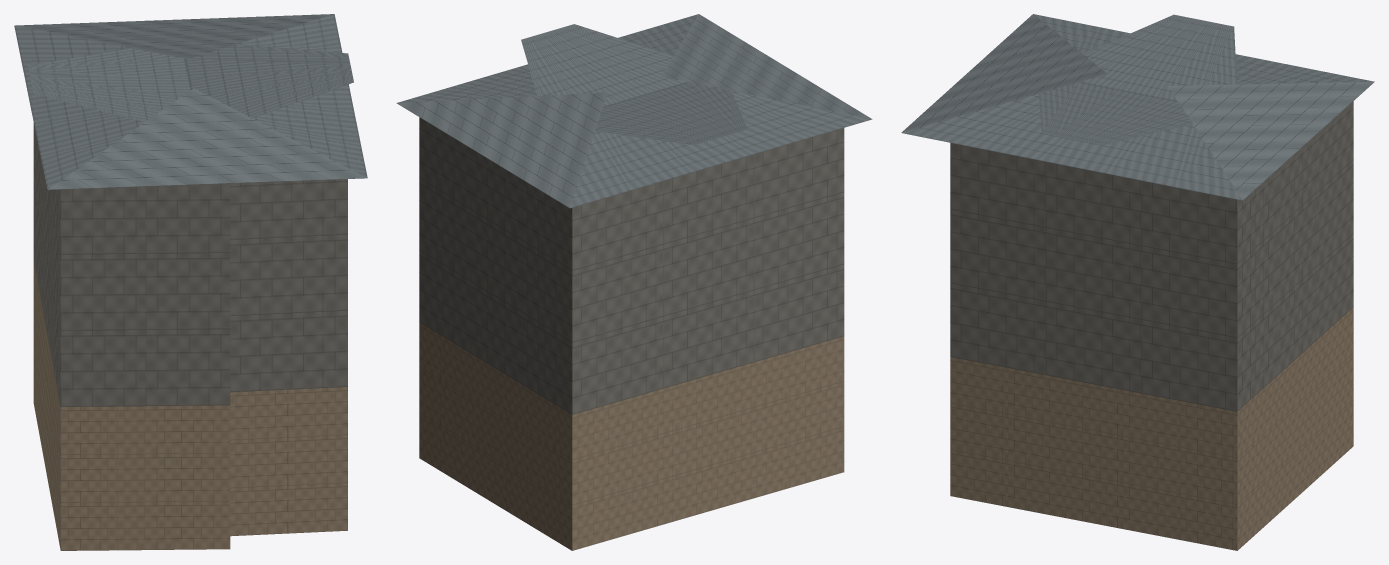
The model's file is bld_c-20_14_537.gltf.
The picture shows the model from 3 angles, left to right: view 1: azimuth 30°, elevation 25°; view 2: azimuth 150°, elevation 25°; view 3: azimuth 270°, elevation 25°; orthographic projection. The views are drawn at different scales.
Parts seen in each view (by area): view 1: bld_c-20_14_537; view 2: bld_c-20_14_537; view 3: bld_c-20_14_537.
Part boxes in pixels (x1,y1,x2,y2): bld_c-20_14_537: [14, 14, 367, 550]; bld_c-20_14_537: [396, 14, 872, 550]; bld_c-20_14_537: [901, 14, 1374, 550].
Size of the model in its own units: 14.67 by 14.2 by 15.74.
Materials: 3 (3 with a texture image).
